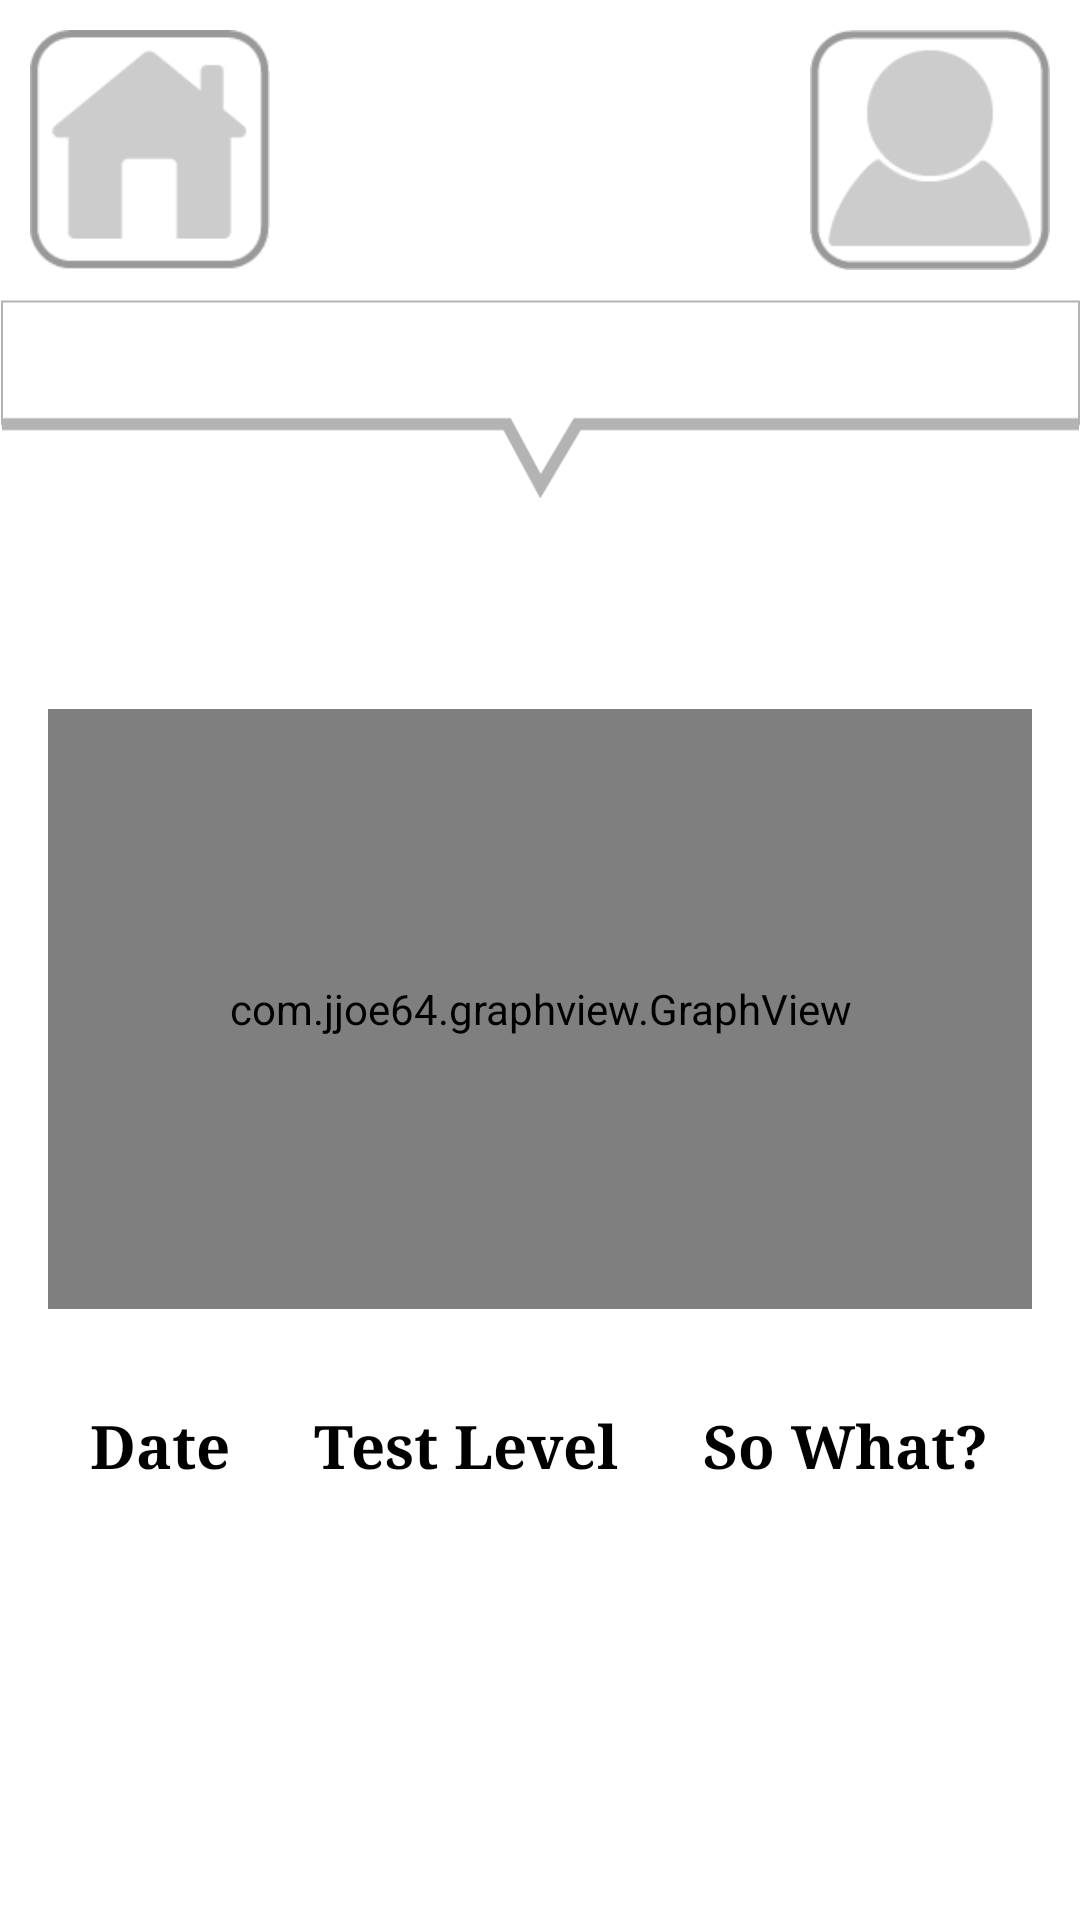

Icons on this 1080×1920 Android screen, each with the point to tap as (x,y):
home: (150,149)
profile: (930,150)
